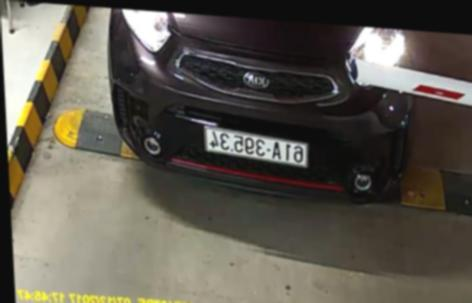License_Plate: (202, 126, 311, 169)
